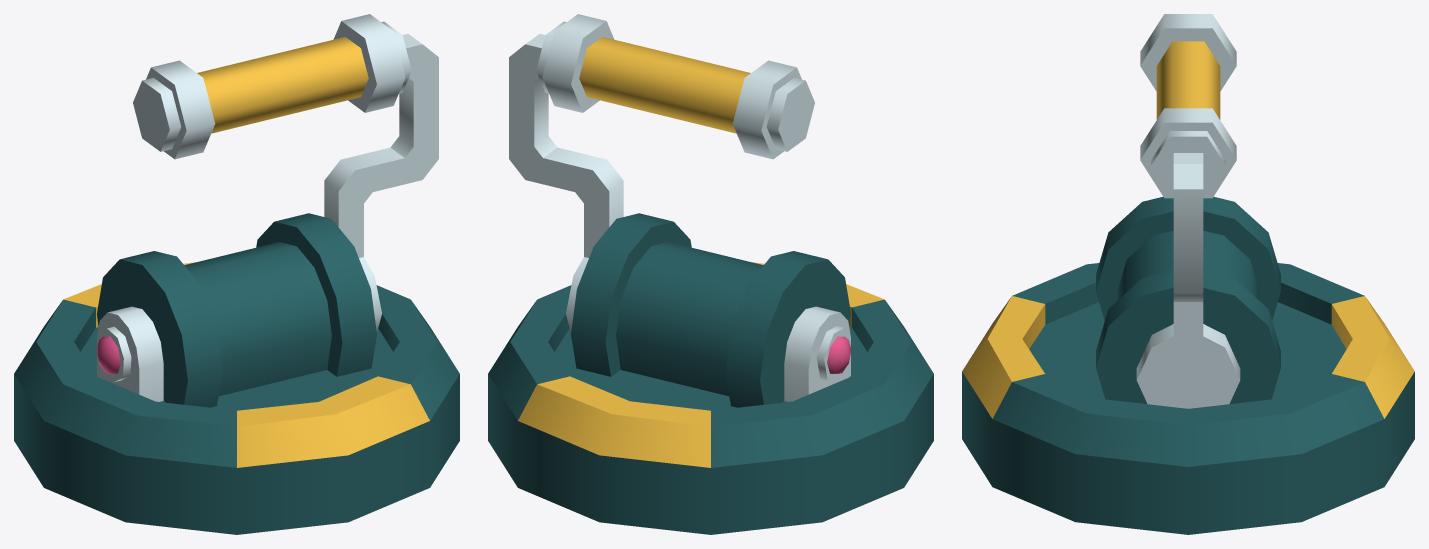
File: SM_Lever.fbx
3 views of the same model, side by side, from view 1: azimuth 30°, elevation 25°; view 2: azimuth 150°, elevation 25°; view 3: azimuth 270°, elevation 25° (orthographic).
Visible parts, largest first — view 1: SM_Lever_Base, SM_Lever_Handle; view 2: SM_Lever_Base, SM_Lever_Handle; view 3: SM_Lever_Base, SM_Lever_Handle.
Boxes of the visible parts, x1,y1,x2,y2 form: SM_Lever_Base: [14, 213, 459, 534]; SM_Lever_Handle: [133, 14, 438, 332]; SM_Lever_Base: [488, 213, 933, 534]; SM_Lever_Handle: [509, 14, 814, 332]; SM_Lever_Base: [962, 197, 1414, 534]; SM_Lever_Handle: [1136, 14, 1240, 408].
Bounding box in the file's own units: 24.55 × 23.16 × 24.45.
